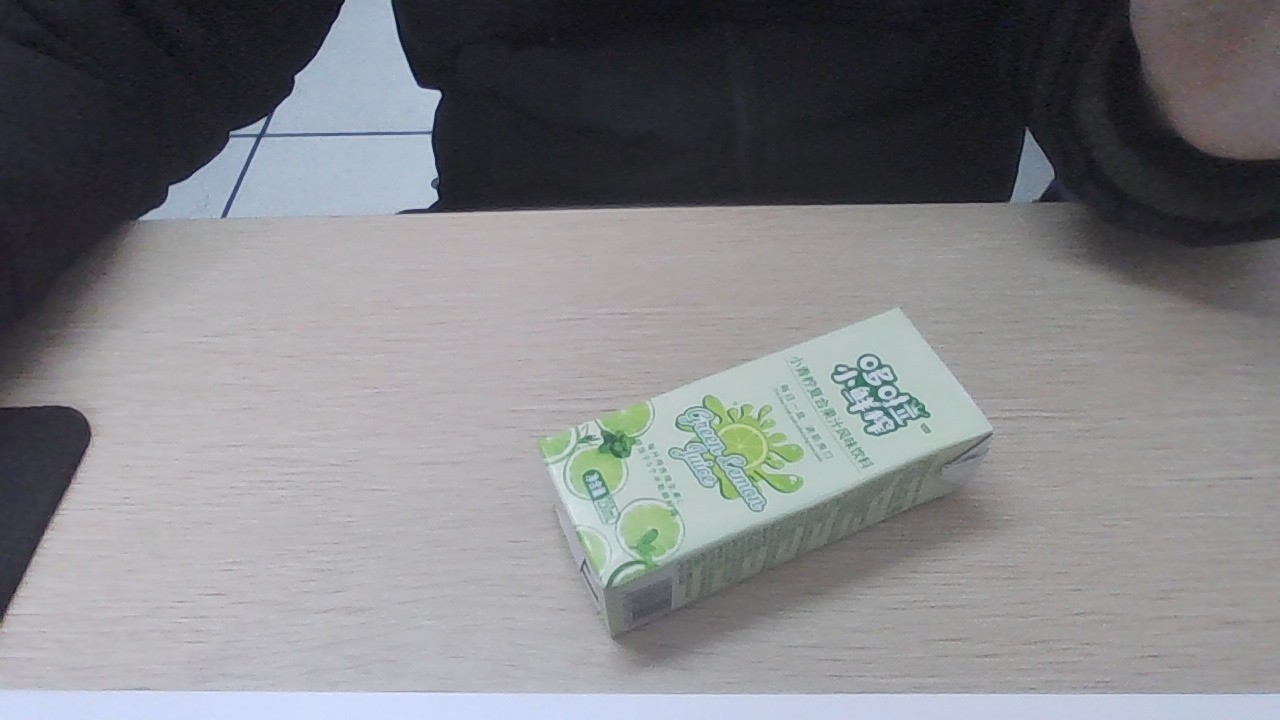CY-drink: (551, 311, 977, 615)
